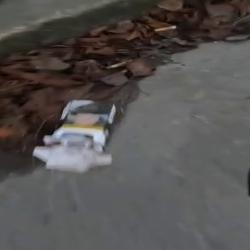Restaffald: (37, 99, 116, 173)
